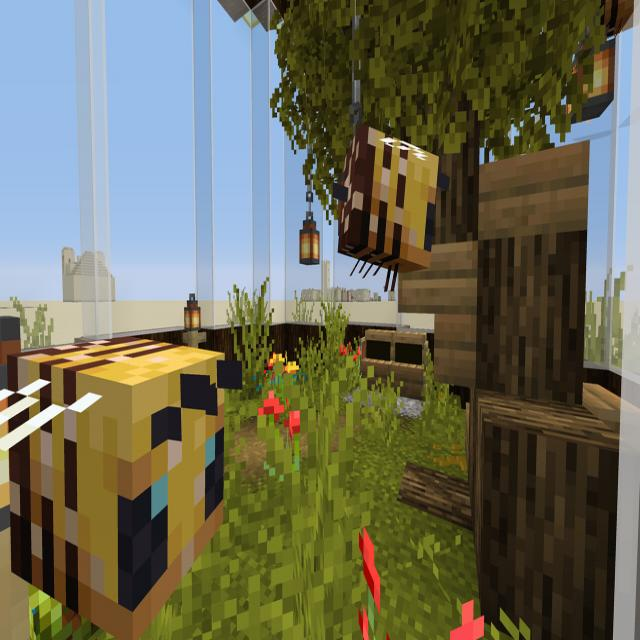Bee: (0, 308, 248, 637), (332, 106, 452, 307)
